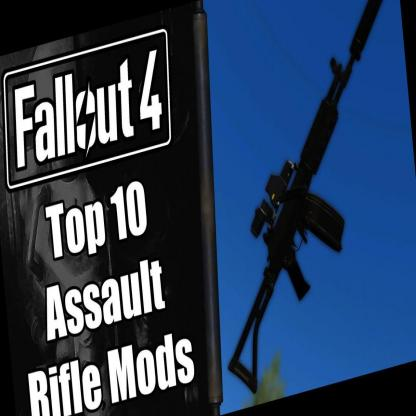rifle: (196, 0, 416, 394)
